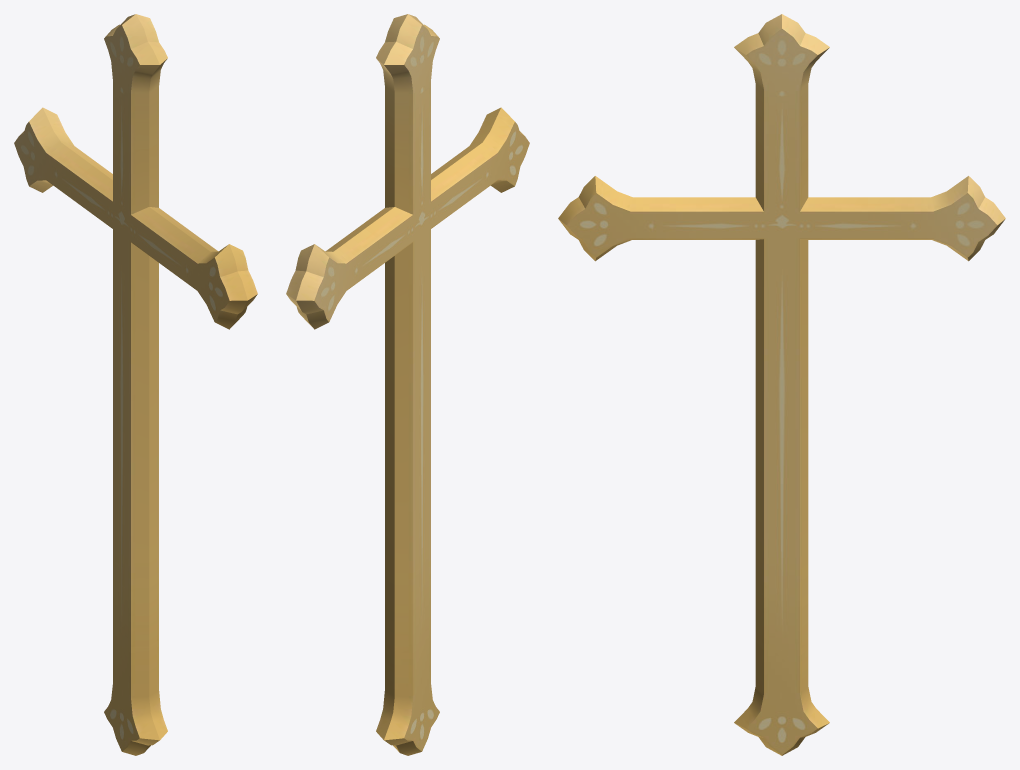
The model's file is cross.fbx.
3 renders of one model, left to right at view 1: azimuth 30°, elevation 25°; view 2: azimuth 150°, elevation 25°; view 3: azimuth 270°, elevation 25°, orthographic.
Parts seen in each view (by area): view 1: cross; view 2: cross; view 3: cross.
Part boxes in pixels (x1=…): cross: x1=14, y1=14, x2=257, y2=755; cross: x1=286, y1=14, x2=529, y2=755; cross: x1=558, y1=14, x2=1005, y2=755.
Size of the model in its own units: 0.5207 by 13.03 by 7.13.
1 material, 1 textured.
